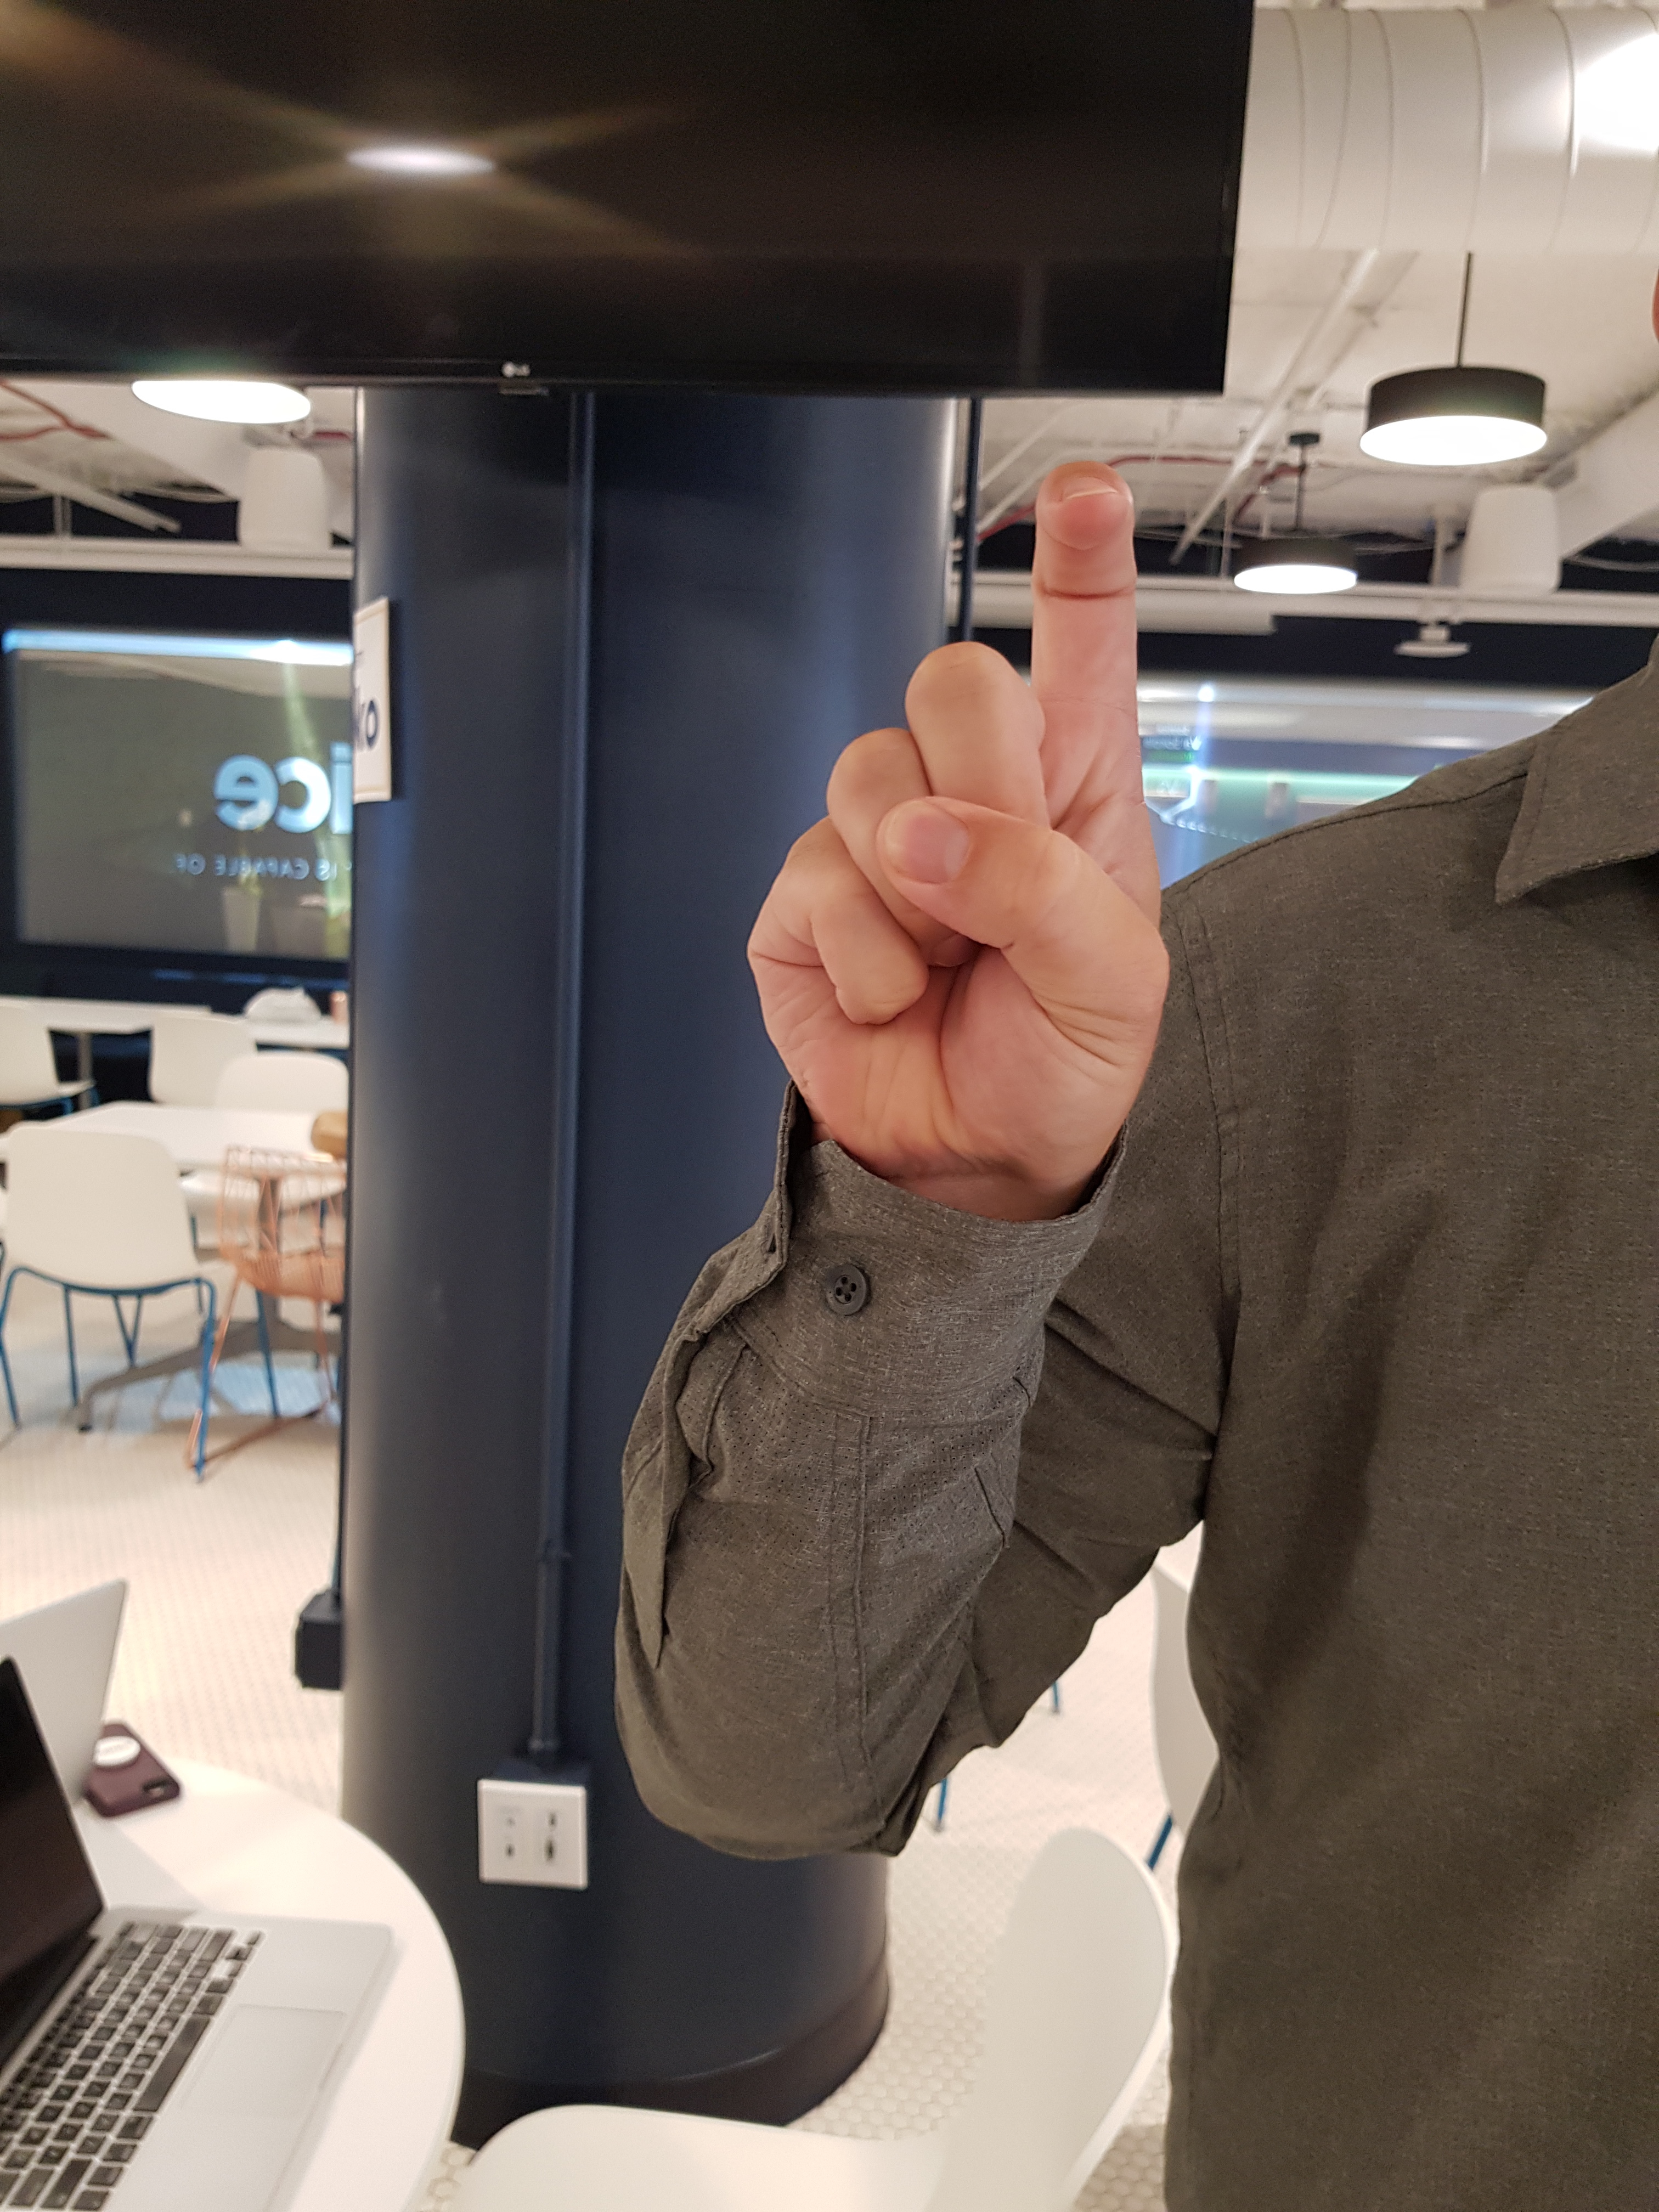x: (626, 411, 1300, 1202)
